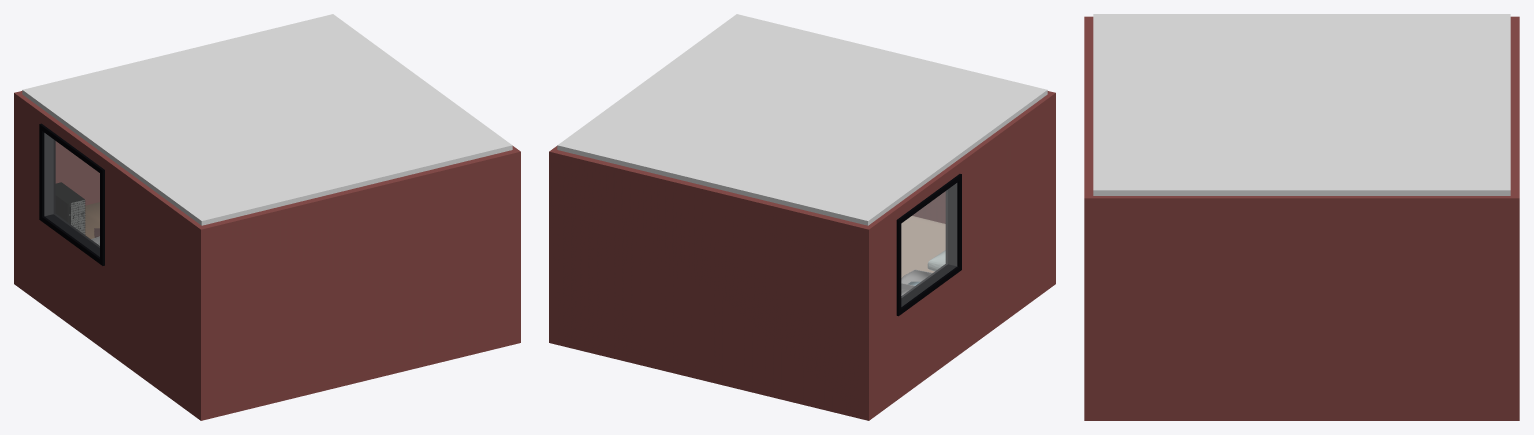
Rendered from isaiah_room-transformed.glb.
3 renders of one model, left to right at view 1: azimuth 30°, elevation 25°; view 2: azimuth 150°, elevation 25°; view 3: azimuth 270°, elevation 25°, orthographic. The views are drawn at different scales.
Visible parts, largest first — view 1: Plane.006, Cylinder, Window Glass, Plane.002, keyboard_back, table; view 2: Plane.006, Cylinder, Plane.002, Window Glass; view 3: Plane.006, Cylinder.
Part boxes in pixels (<box>): Plane.006: <box>14,91,520,420</box>; Cylinder: <box>22,14,512,225</box>; Window Glass: <box>44,133,99,256</box>; Plane.002: <box>39,123,104,265</box>; keyboard_back: <box>55,182,84,232</box>; table: <box>85,202,99,238</box>; Plane.006: <box>549,91,1055,420</box>; Cylinder: <box>557,14,1047,225</box>; Plane.002: <box>896,174,961,316</box>; Window Glass: <box>901,183,956,306</box>; Plane.006: <box>1084,16,1519,420</box>; Cylinder: <box>1093,14,1510,195</box>.
Bounding box in the file's own units: 7.05 × 4.1 × 7.09.
9 materials, 9 textured.
